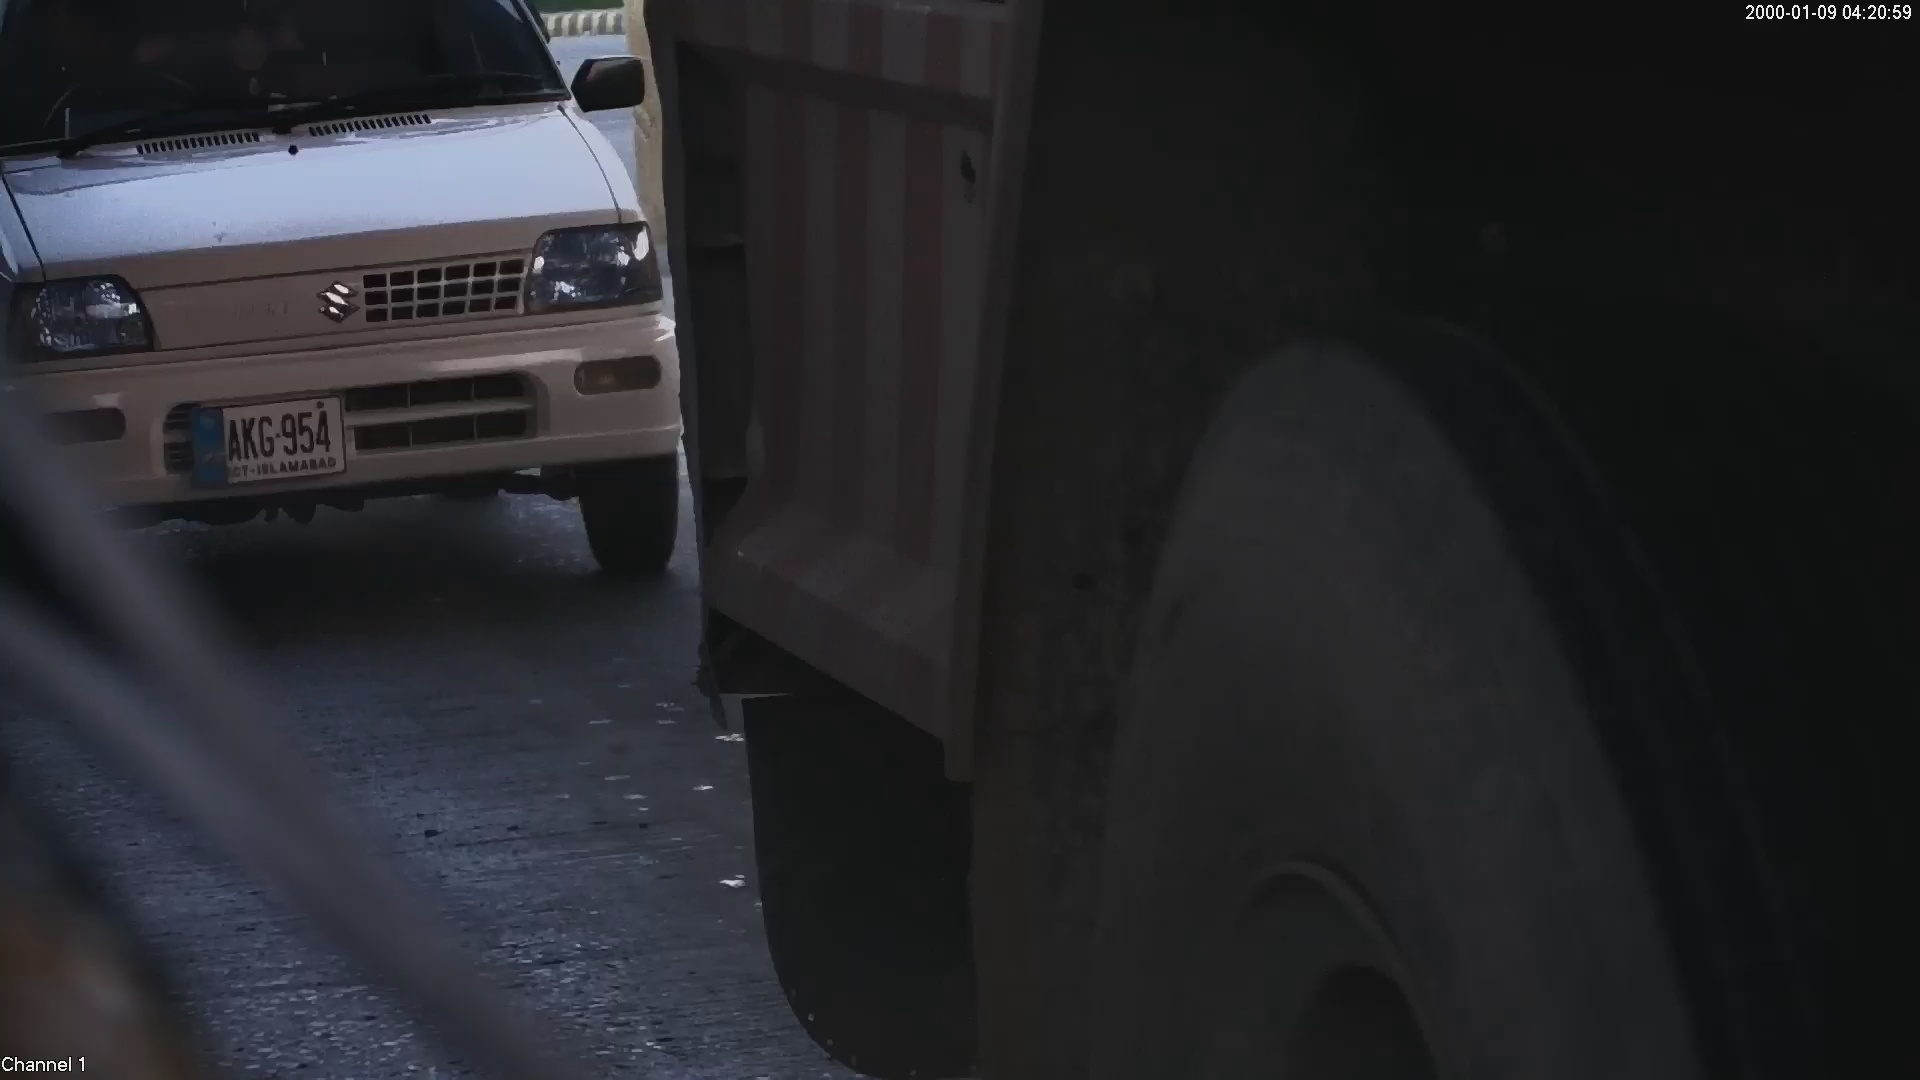Number_Plate: (165, 394, 363, 490)
Undefined: (191, 277, 378, 336)
